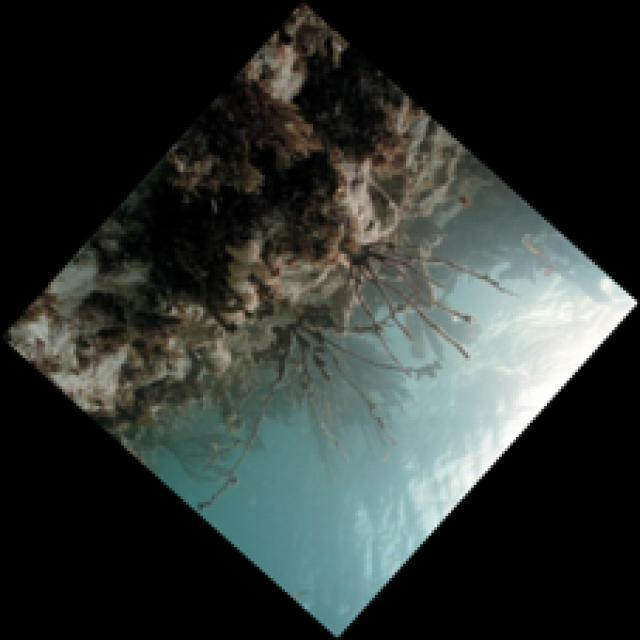Dead Coral: (181, 77, 335, 272)
